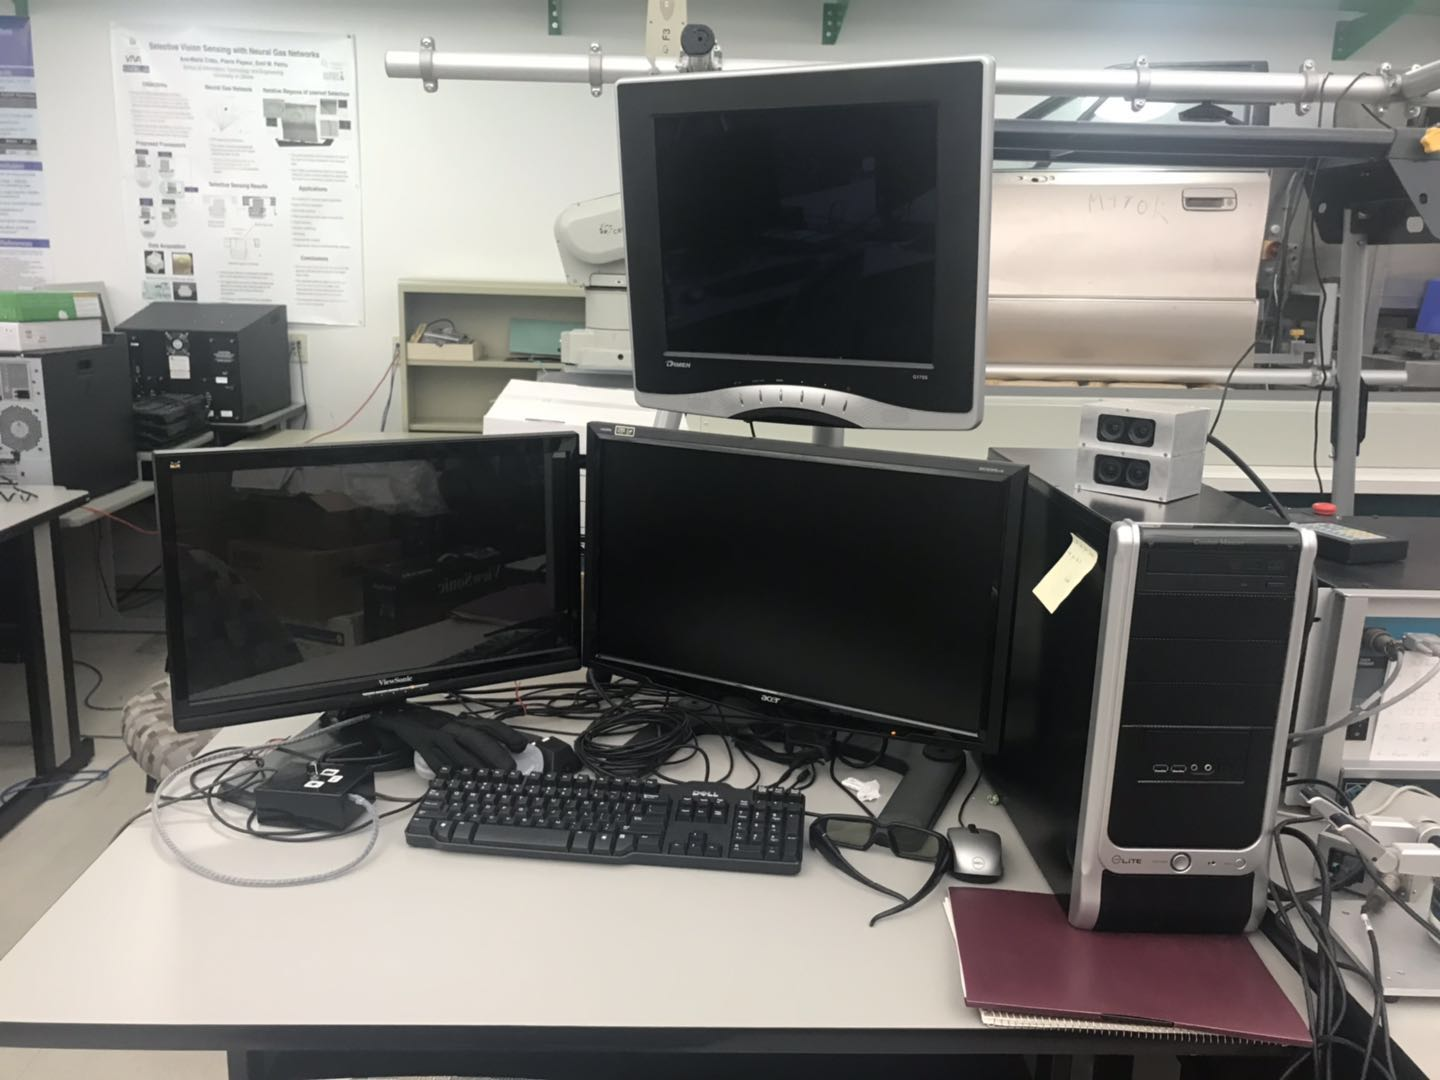tvmonitor: (593, 419, 1026, 757), (155, 430, 584, 769), (613, 58, 996, 428)
